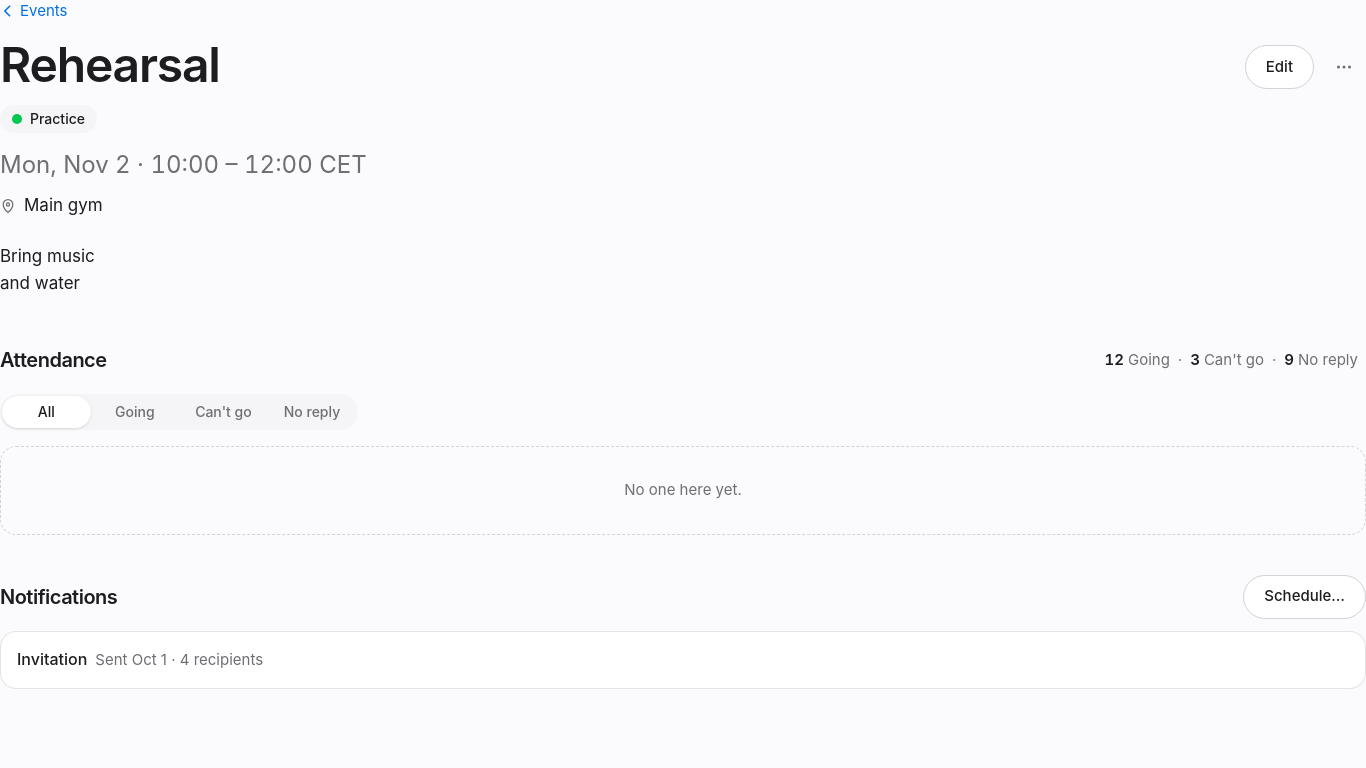
Scenario: EventDetailView › cancels from the menu: explains who is told, posts the message, then shows the banner and a toast
The width and height of the screenshot is (1366, 768).
Click the button named "More actions": (1344, 67) [1322,45,1365,89]
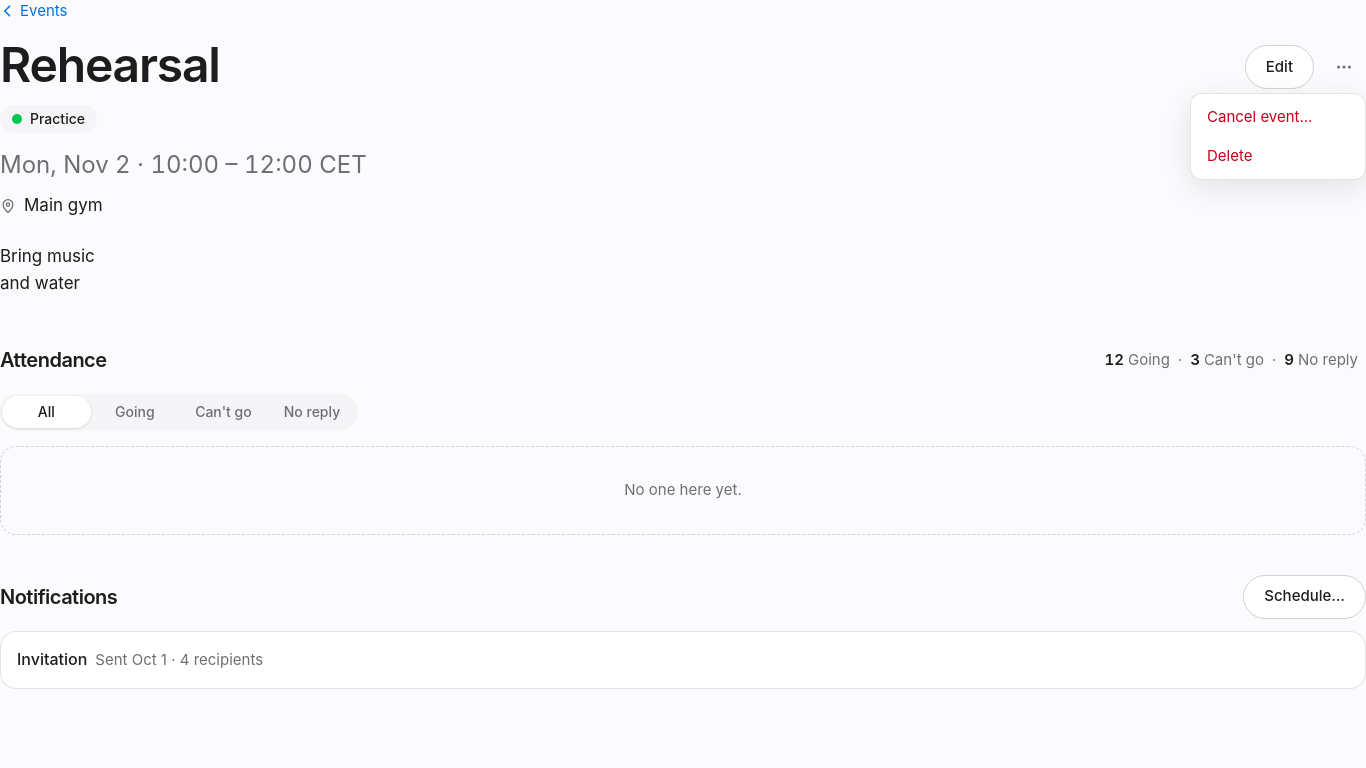
Click the menu item "Cancel event…": (1278, 118) [1195,98,1361,137]
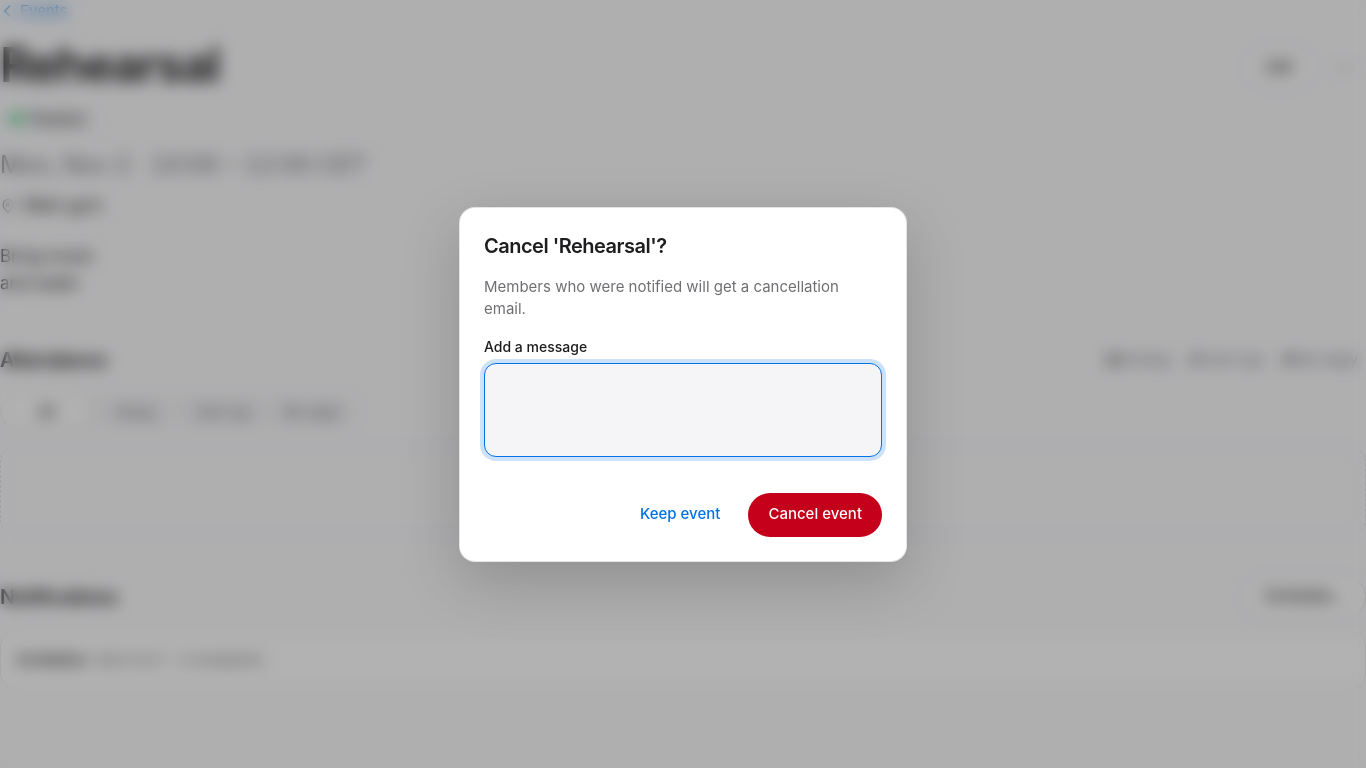
Result: the heading "Cancel 'Rehearsal'?" is shown at [484,234,667,258]
Result: the dialog shows "Members who were notified will get a cancellation email." at [484,276,839,318]
In the text box labelled "Add a message": (683, 410) [484,362,882,456], type "The gym is closed"
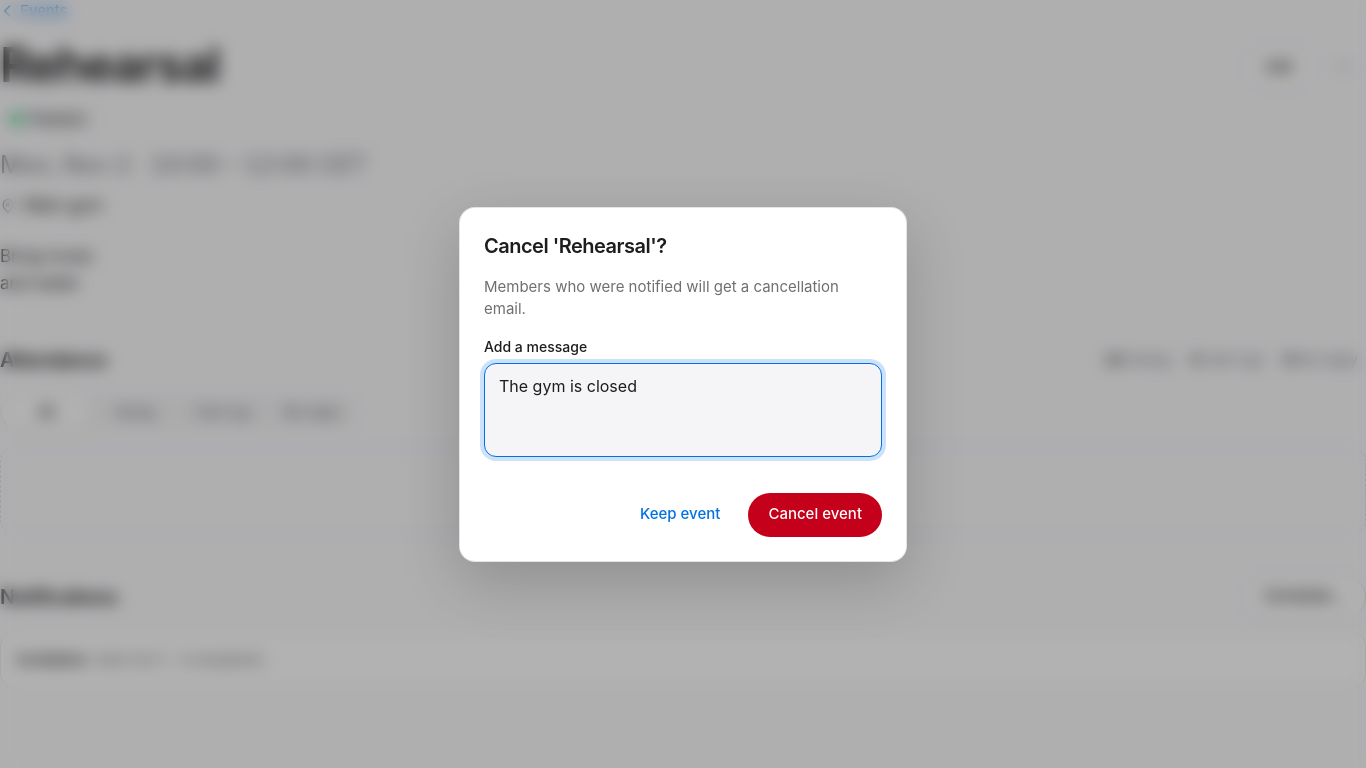
Click the button "Cancel event": (815, 514) [748,492,882,536]
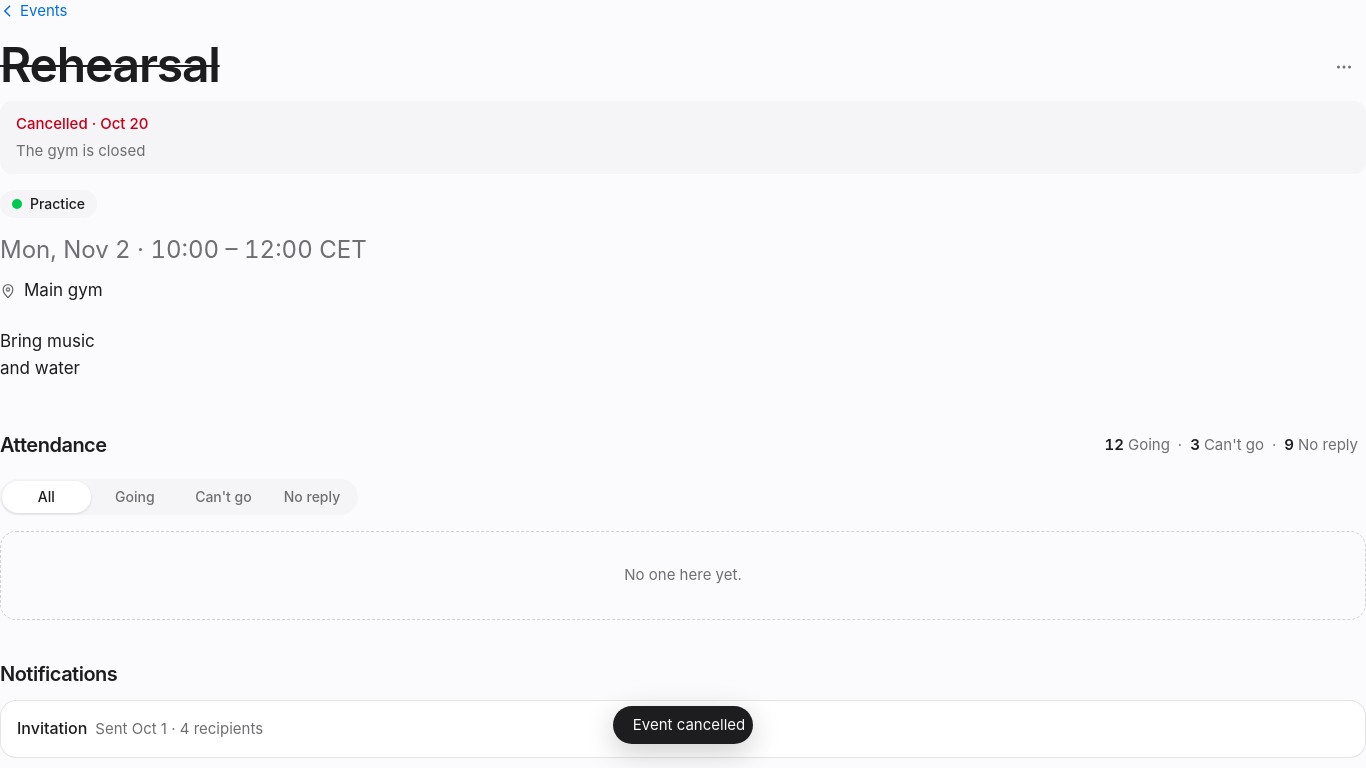
Result: the element showing "Cancelled · Oct 20 The gym is closed" is shown at [0,101,1365,174]
Result: the message "Event cancelled" is shown at [613,706,753,744]
